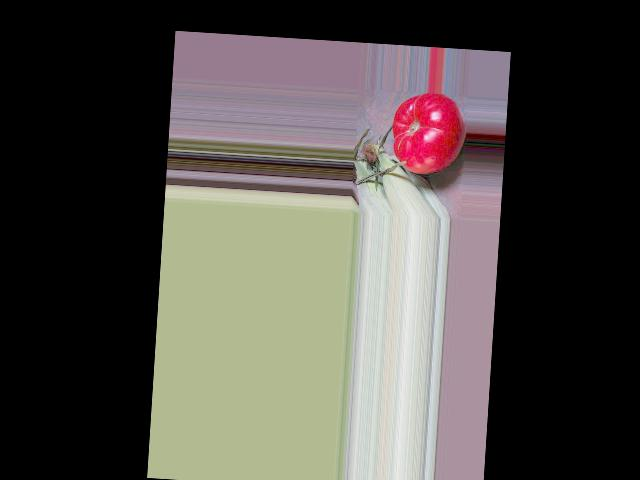tomato: (389, 91, 468, 176)
